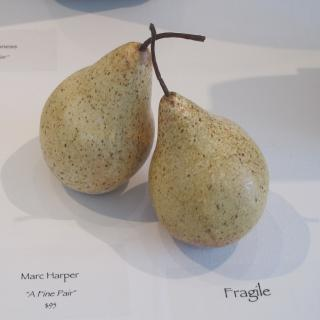Pear: (148, 91, 270, 247), (40, 41, 159, 192)
